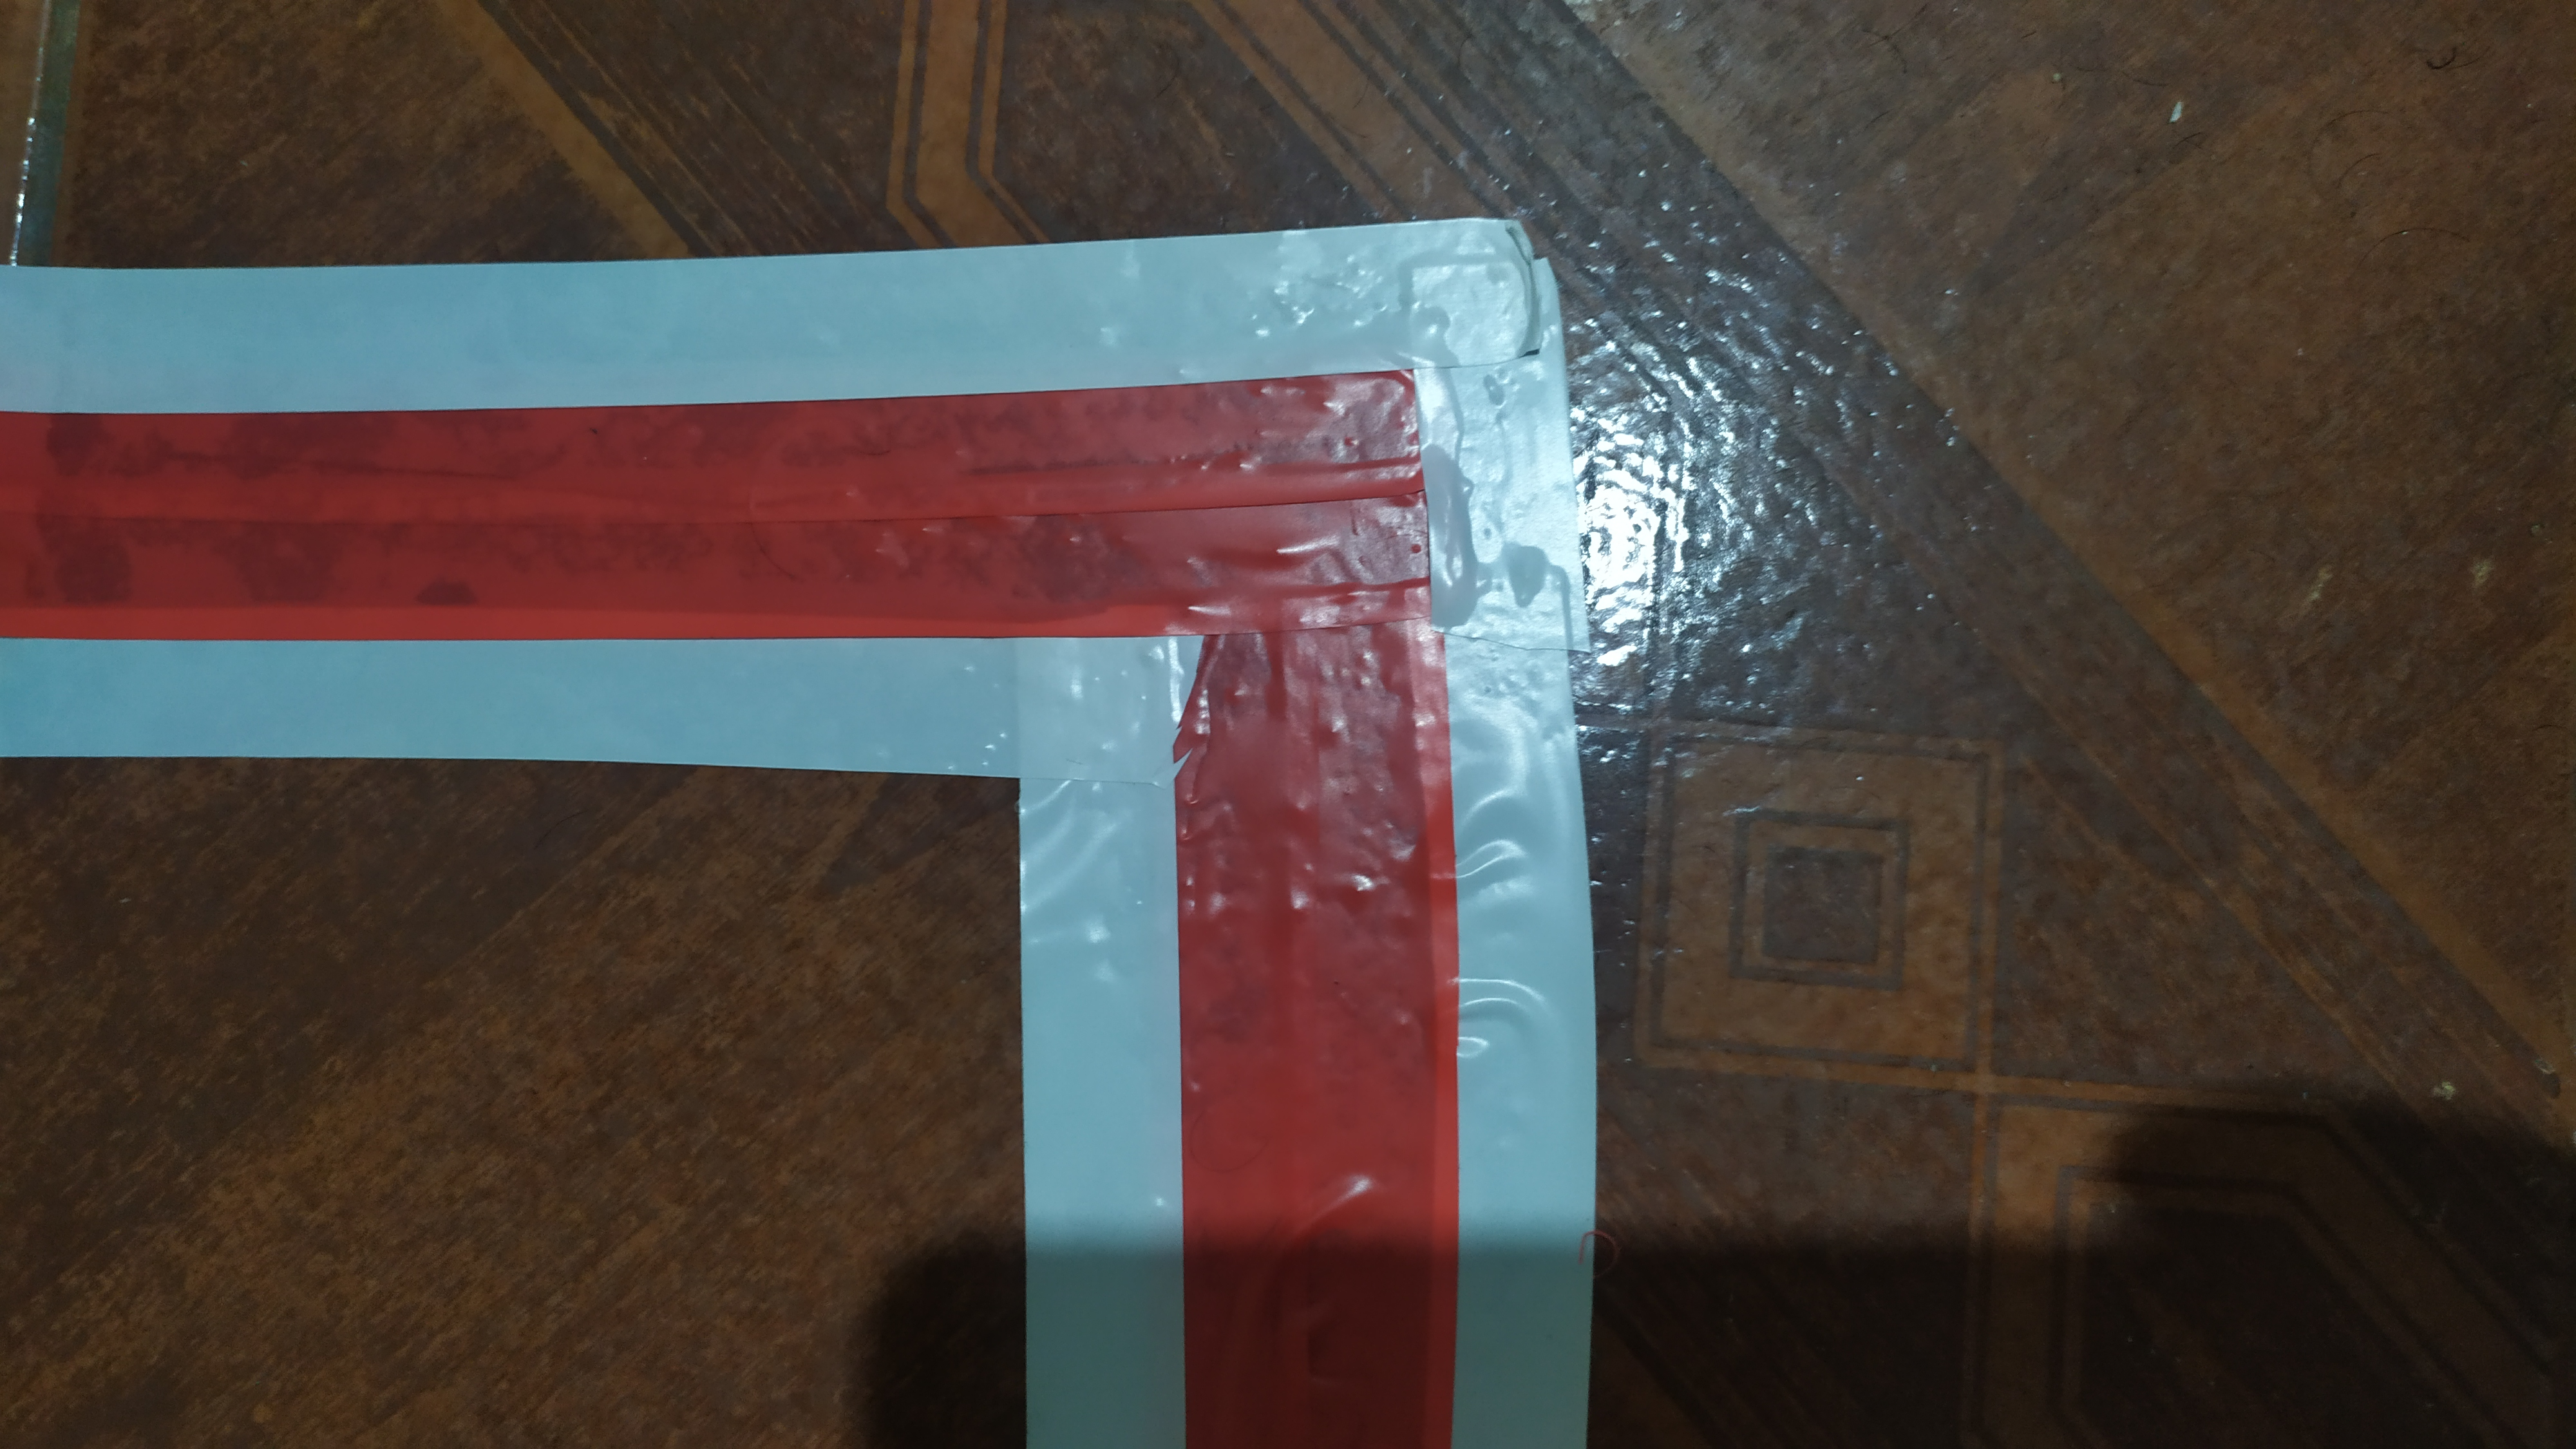faixa_esquerda: (0, 205, 1624, 1449)
